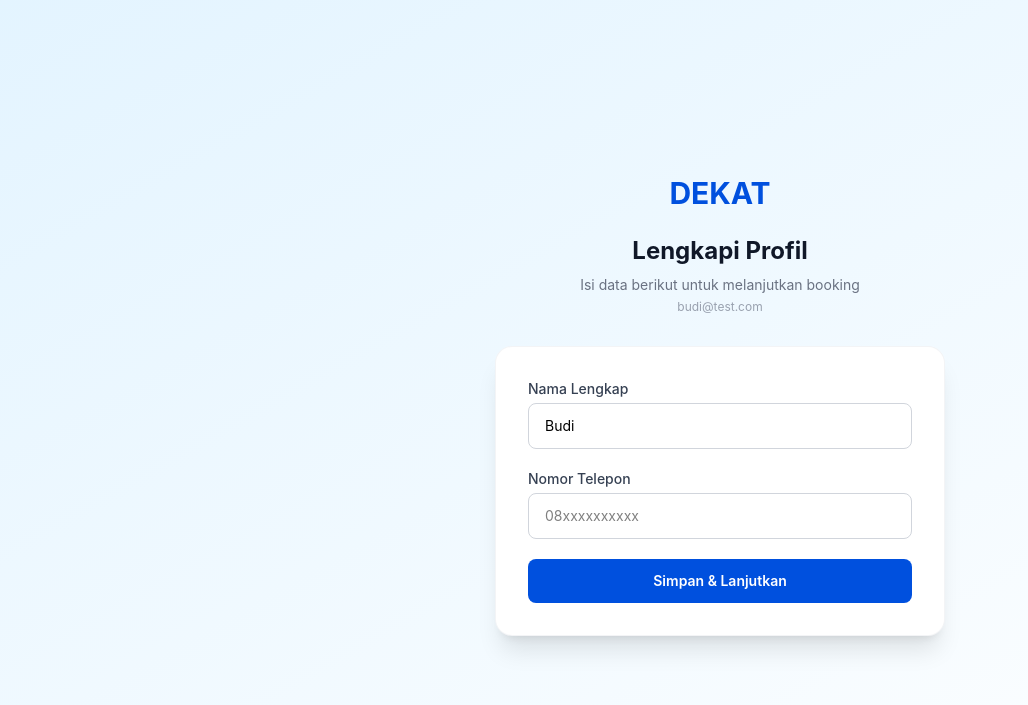
Test case: ProfileCompletePage › shows server error on failure
Replace the text in the field with placeholder "Masukkan nama Anda" with "Budi Santoso". click: (720, 426)
box: x1=528 y1=403 x2=912 y2=449
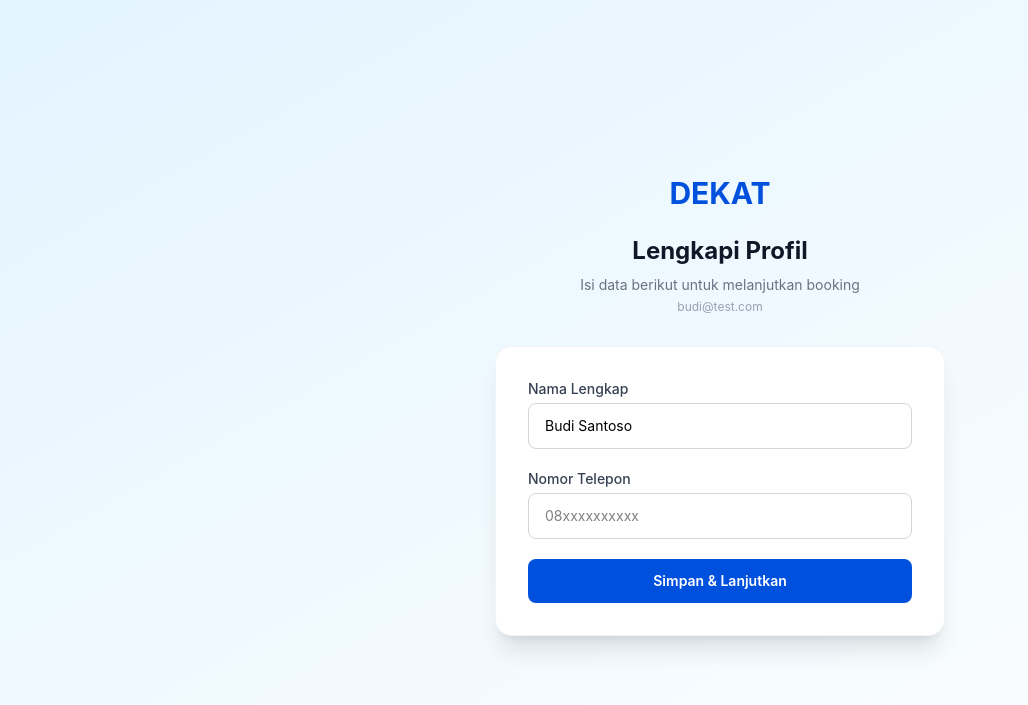
Type "081234567890" into the field with placeholder "08xxxxxxxxxx". click: (720, 516)
box: x1=528 y1=493 x2=912 y2=539
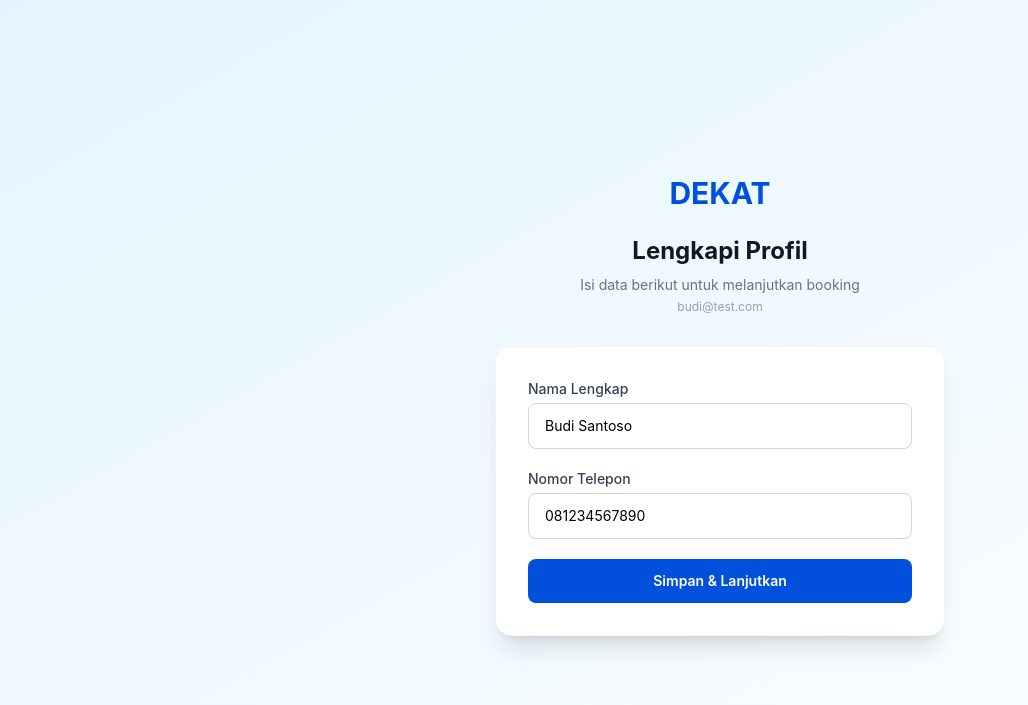
Click the button "Simpan & Lanjutkan". click: (720, 581)
box: x1=528 y1=559 x2=912 y2=603
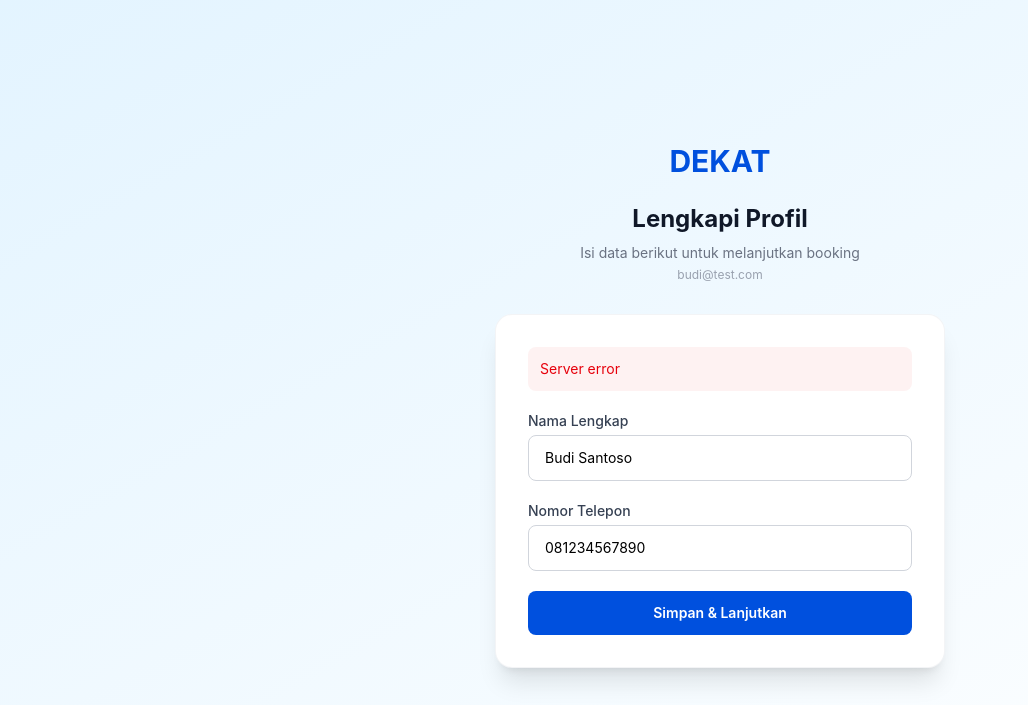
Expected: the text "Server error" is shown, x1=528 y1=347 x2=912 y2=391
